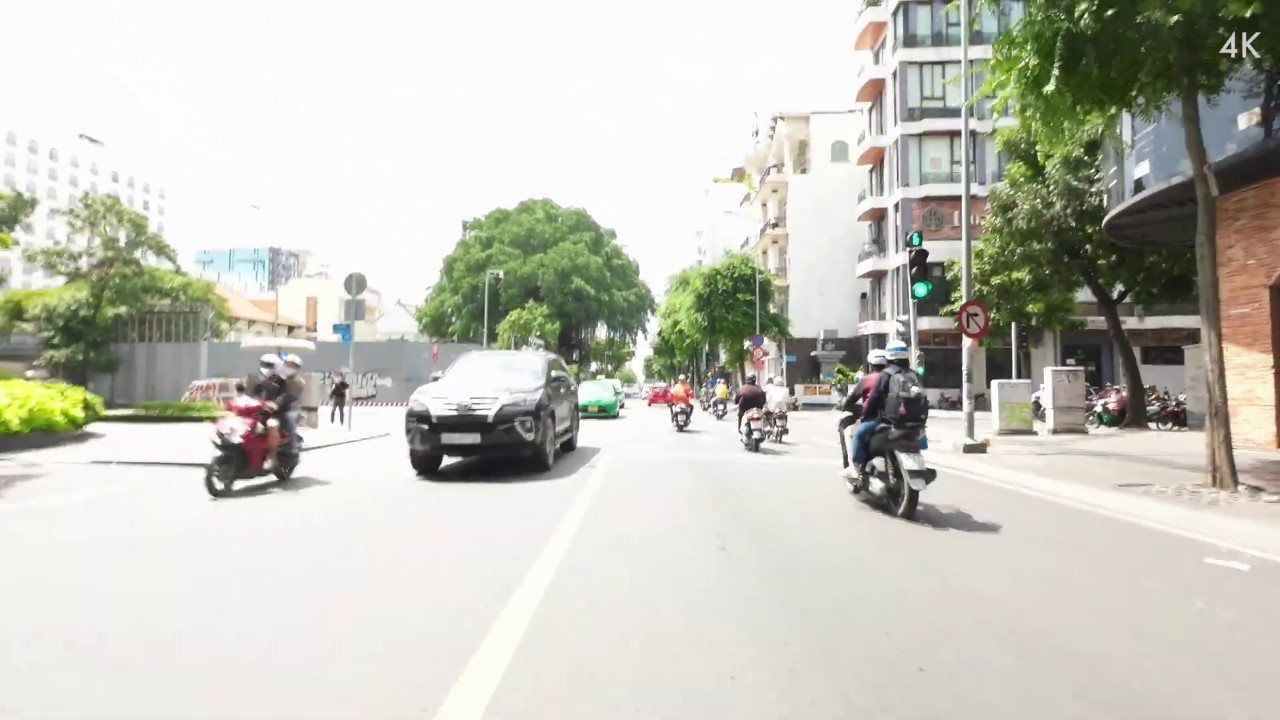cam_re_phai: (957, 299, 989, 340)
